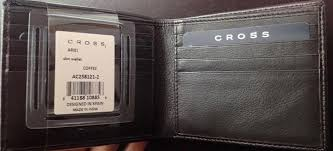monedero: (1, 1, 330, 151)
